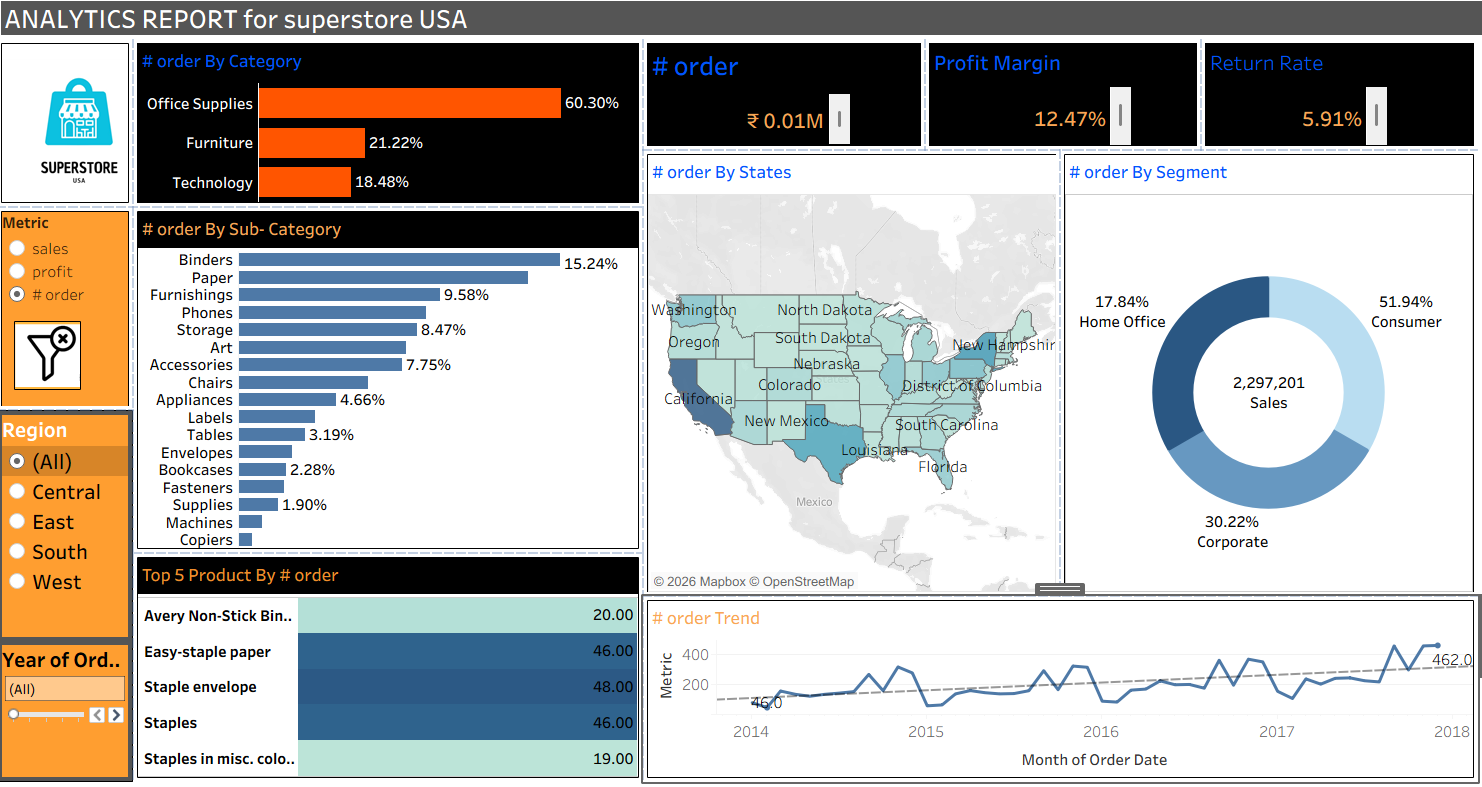

The dashboard page shown, as its layout file describes it:
{"tool":"tableau","page":{"name":"Dashboard 1","canvas":[1000,1000],"units":"permille","ordinal":0},"visuals":[{"type":"text","box":[4.8,10,990.3,52.4]},{"type":"image","param":"Image/Screenshot 2026-04-30 234449.png","box":[4.8,62.4,82,209.2]},{"type":"worksheet","title":"Category","mark":"Automatic","rows":["Category"],"cols":["Calculation_0947294552424448"],"box":[86.8,62.4,307.8,209.2]},{"type":"worksheet","title":"Metric","mark":"Automatic","box":[394.6,62.4,170.2,138.2]},{"type":"worksheet","title":"Profit Margin","mark":"Automatic","box":[564.8,62.4,166.9,138.2]},{"type":"worksheet","title":"Return Rate","mark":"Automatic","box":[731.7,62.4,166.9,138.2]},{"type":"legend","title":"segment","param":"[federated.0agt08r1q3q9gn13x3sub1t3eowb].[none:Segment:nk]","box":[898.6,62.4,96.6,116.1]},{"type":"worksheet","title":"map","mark":"Multipolygon","box":[394.6,200.7,252,557.5]},{"type":"worksheet","title":"segment","mark":"Pie","rows":["Calculation_0947294566481925","Calculation_0947294566510599"],"box":[646.6,200.7,252,557.5]},{"type":"parameter","param":"[Parameters].[Parameter 1]","box":[4.8,271.6,82,254.1]},{"type":"worksheet","title":"Sub Category","mark":"Automatic","rows":["Sub-Category"],"cols":["Calculation_0947294552424448"],"box":[86.8,271.6,307.8,432.5]},{"type":"dashboard-object","box":[15.1,414.5,40.4,86.1]},{"type":"filter","title":"Metric","param":"[federated.0agt08r1q3q9gn13x3sub1t3eowb].[none:Region:nk]","box":[5.4,526.9,80.8,287.1]},{"type":"worksheet","title":"product","mark":"Square","rows":["Product Name"],"box":[86.8,704.1,307.8,286]},{"type":"worksheet","title":"trend","mark":"Automatic","rows":["Calculation_0947294552424448"],"cols":["Order Date"],"box":[394.6,758.1,504,231.9]},{"type":"filter","title":"Metric","param":"[federated.0agt08r1q3q9gn13x3sub1t3eowb].[yr:Order Date:ok]","box":[5.4,814,80.8,174.8]}]}

Visuals, with their boxes on the dashboard's canvas, which has no fixed pixel size, in thousandths of its width and height (x1, y1, x2, y2). These are canvas units, not pixel positions in the 1482x787 screenshot, which may show the page scaled, cropped or inside an application window:
text: x1=5 y1=10 x2=995 y2=62
image: x1=5 y1=62 x2=87 y2=272
"Category" worksheet: x1=87 y1=62 x2=395 y2=272
"Metric" worksheet: x1=395 y1=62 x2=565 y2=201
"Profit Margin" worksheet: x1=565 y1=62 x2=732 y2=201
"Return Rate" worksheet: x1=732 y1=62 x2=899 y2=201
"segment" legend: x1=899 y1=62 x2=995 y2=178
"map" worksheet (Multipolygon marks): x1=395 y1=201 x2=647 y2=758
"segment" worksheet (Pie marks): x1=647 y1=201 x2=899 y2=758
parameter: x1=5 y1=272 x2=87 y2=526
"Sub Category" worksheet: x1=87 y1=272 x2=395 y2=704
dashboard-object: x1=15 y1=414 x2=56 y2=501
"Metric" filter: x1=5 y1=527 x2=86 y2=814
"product" worksheet (Square marks): x1=87 y1=704 x2=395 y2=990
"trend" worksheet: x1=395 y1=758 x2=899 y2=990
"Metric" filter: x1=5 y1=814 x2=86 y2=989
